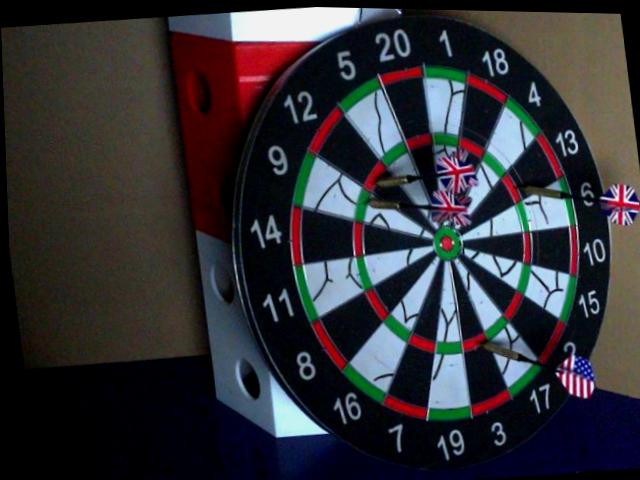triple_12: (365, 161, 387, 191)
triple_13: (504, 174, 521, 203)
triple_3: (463, 334, 485, 352)
triple_9: (356, 189, 372, 221)
